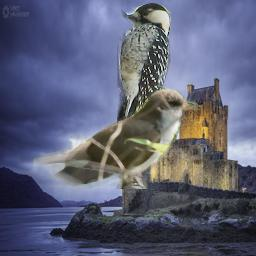Cuckoo: (33, 87, 200, 189)
Woodpecker: (117, 2, 171, 134)
